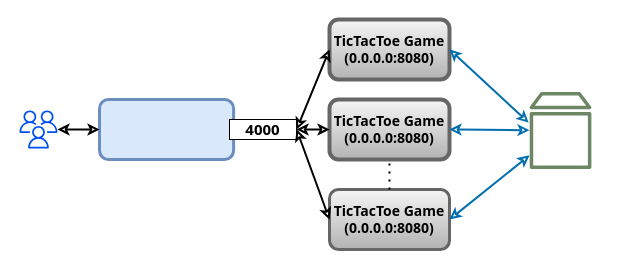
This 620x268 diagram has some shape labels left out. The shapes that lost their labels are listed below. From the top down, each one's centre as x and y in pixels, then its label:
At (x=166, y=129): "Nginx (localhost:5000)".
At (x=560, y=130): "data_dir <<Volume>>".
